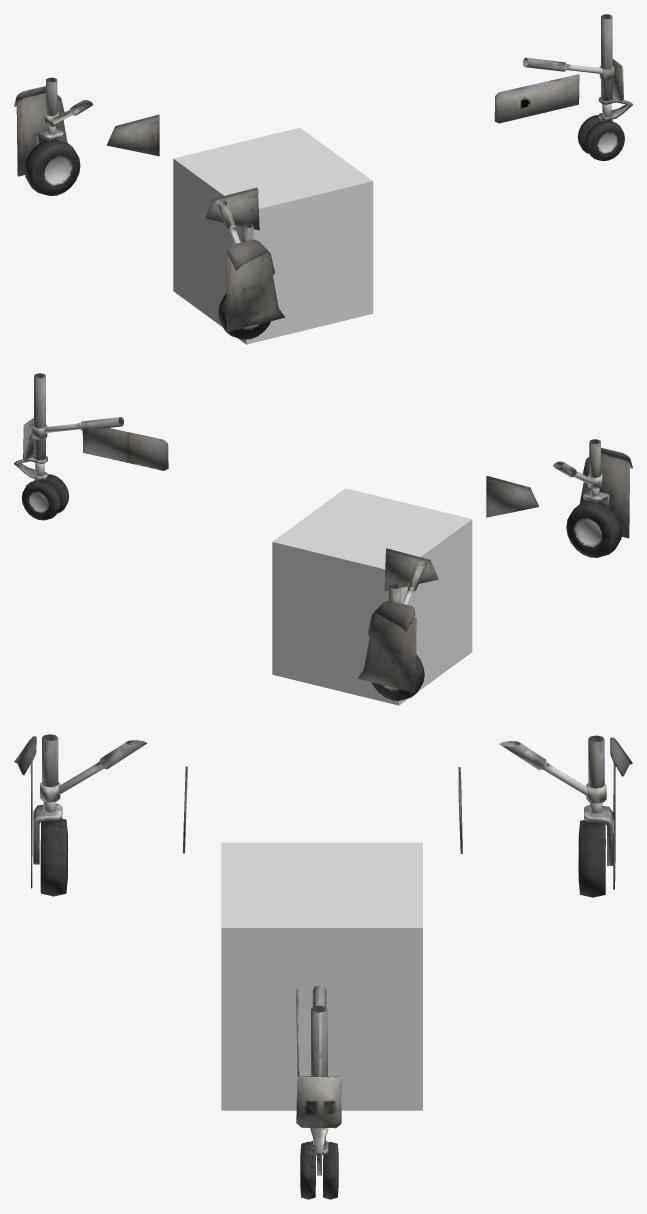
Rendered from F4G_train.fbx.
3 renders of one model, top to bottom at view 1: azimuth 30°, elevation 25°; view 2: azimuth 150°, elevation 25°; view 3: azimuth 270°, elevation 25°, orthographic. The views are drawn at different scales.
Parts seen in each view (by area): view 1: Cube, train; view 2: Cube, train; view 3: Cube, train.
Part boxes in pixels (x1=…): Cube: x1=173, y1=127, x2=373, y2=344; train: x1=14, y1=14, x2=632, y2=339; Cube: x1=272, y1=488, x2=472, y2=705; train: x1=14, y1=373, x2=632, y2=700; Cube: x1=221, y1=842, x2=422, y2=1110; train: x1=14, y1=734, x2=632, y2=1199.
Size of the model in its own units: 8.04 by 6.14 by 3.09.
